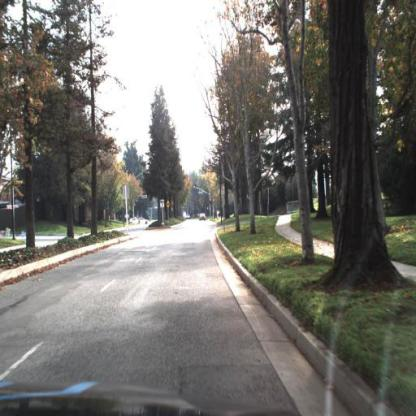car: (136, 215, 151, 229)
